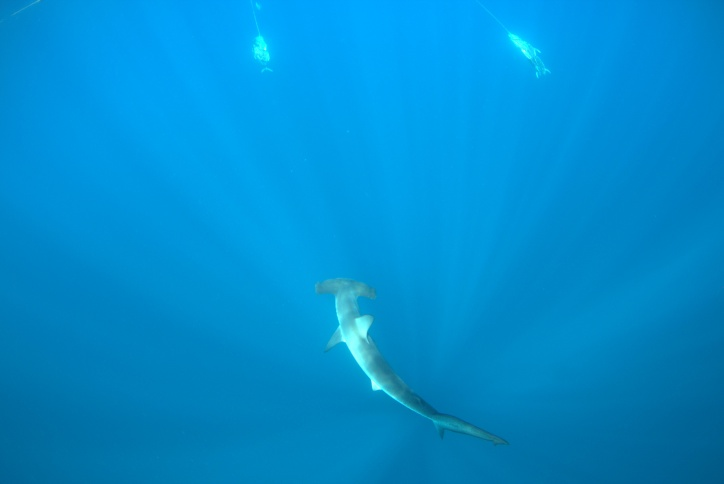Hammer: (289, 254, 512, 458)
